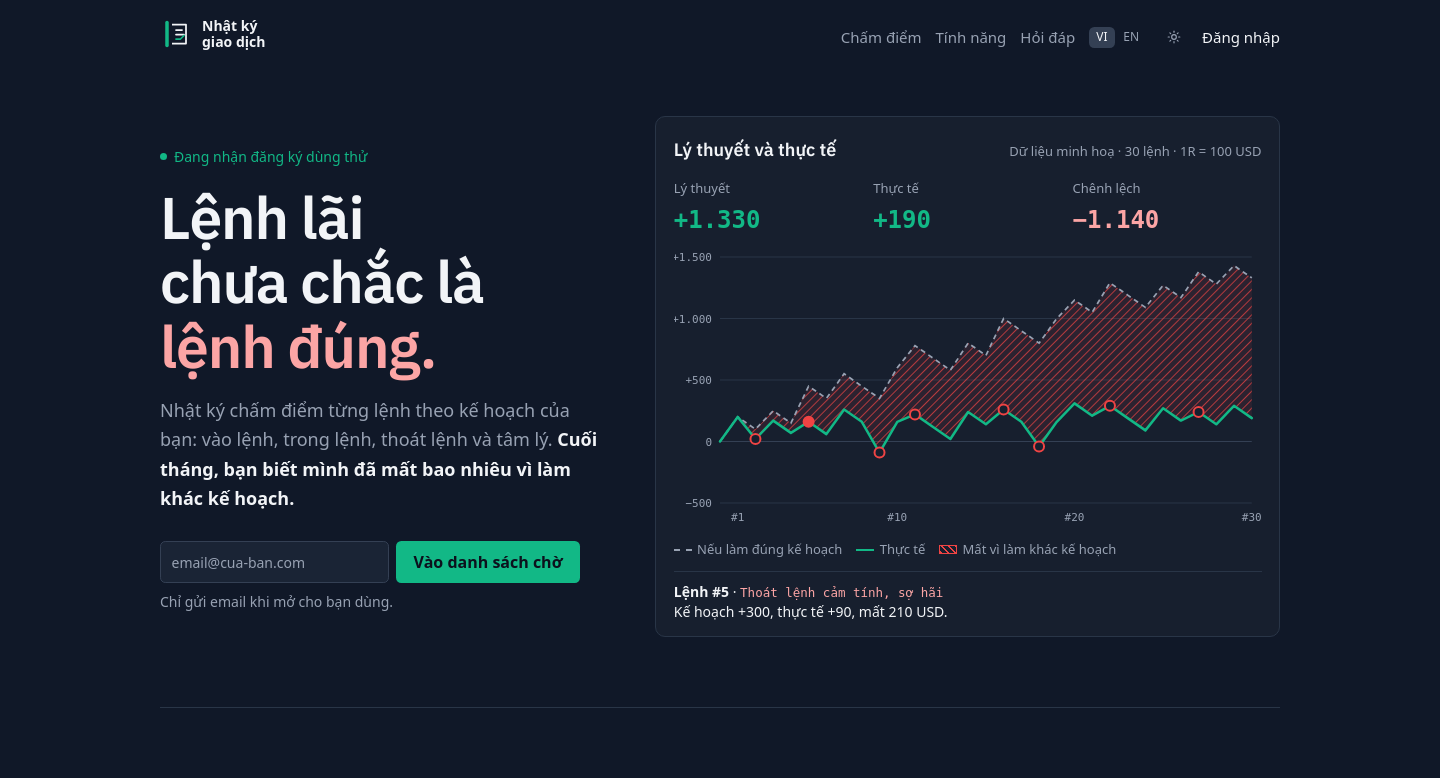
Test: shows an inline error for a malformed email and sends nothing
Type "toi@localhost" into the field labelled "email".
click(275, 562); type("toi@localhost")  # box [160,541,389,583]
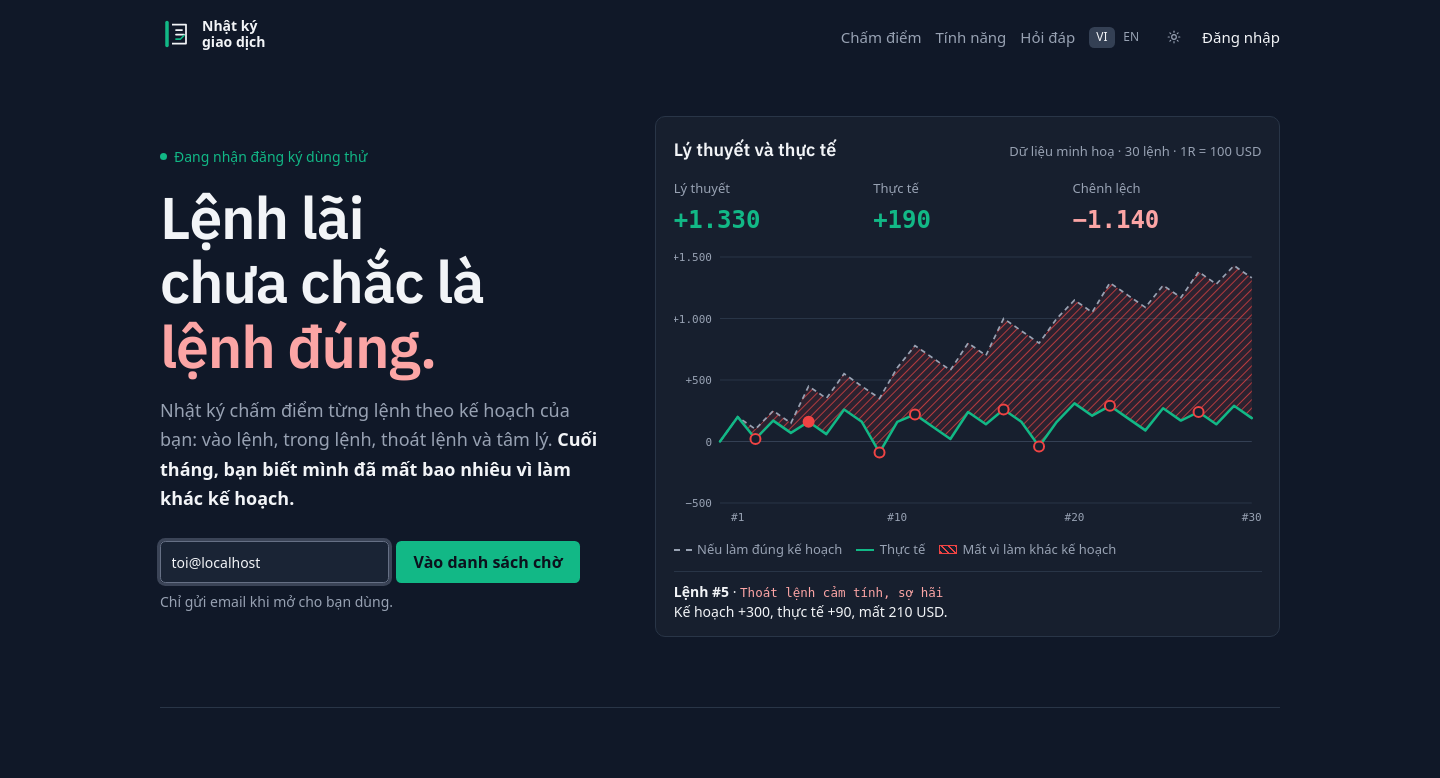
Click the button "Vào danh sách chờ".
click(488, 562)  # box [396,541,580,583]
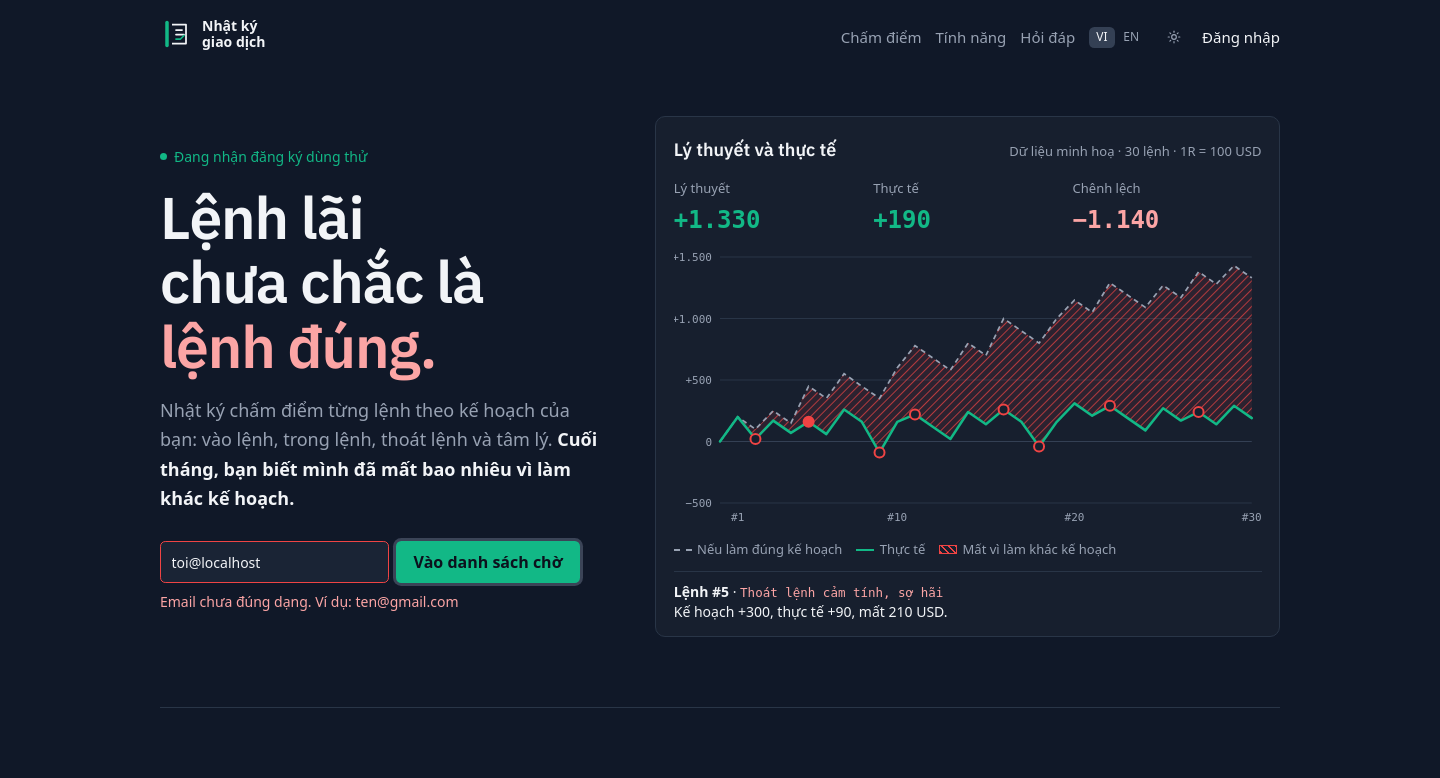
Check: the message reads "Email chưa đúng dạng. Ví dụ: ten@gmail.com", box [160,592,458,611]
